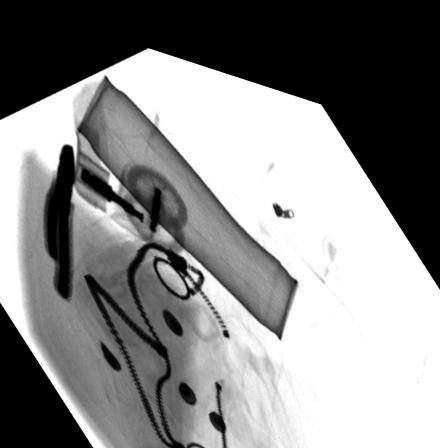Pliers: (40, 137, 77, 301)
